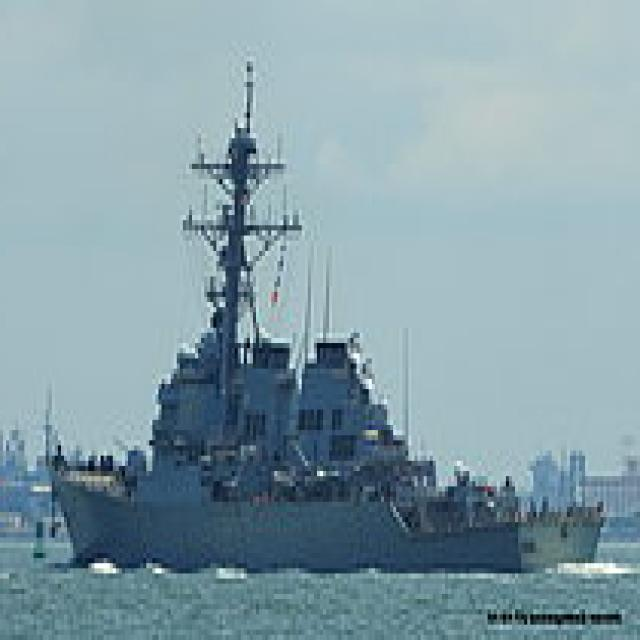Warship: (30, 46, 612, 568)
